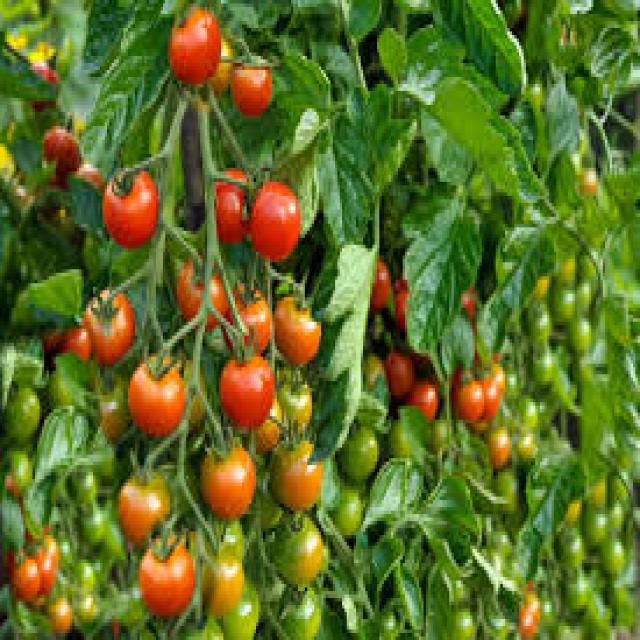Tomato: (123, 531, 206, 620), (87, 176, 179, 254), (190, 428, 266, 518), (238, 184, 316, 271), (128, 344, 190, 448), (224, 336, 284, 442), (71, 282, 140, 364), (158, 15, 232, 86), (184, 249, 227, 327), (234, 62, 284, 128)
